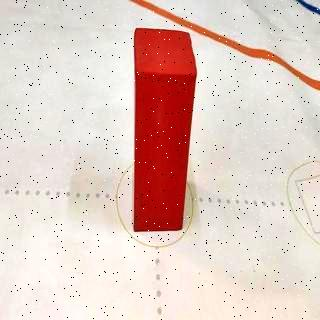redbox: (132, 26, 198, 232)
